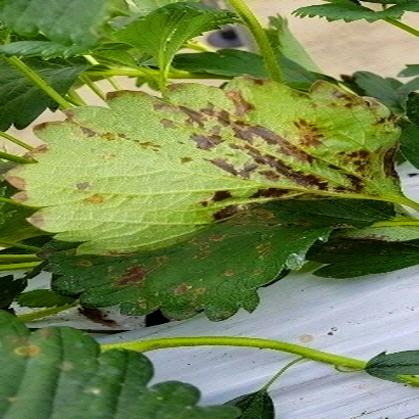Angular Leafspot: (0, 73, 406, 256), (33, 198, 398, 321)
